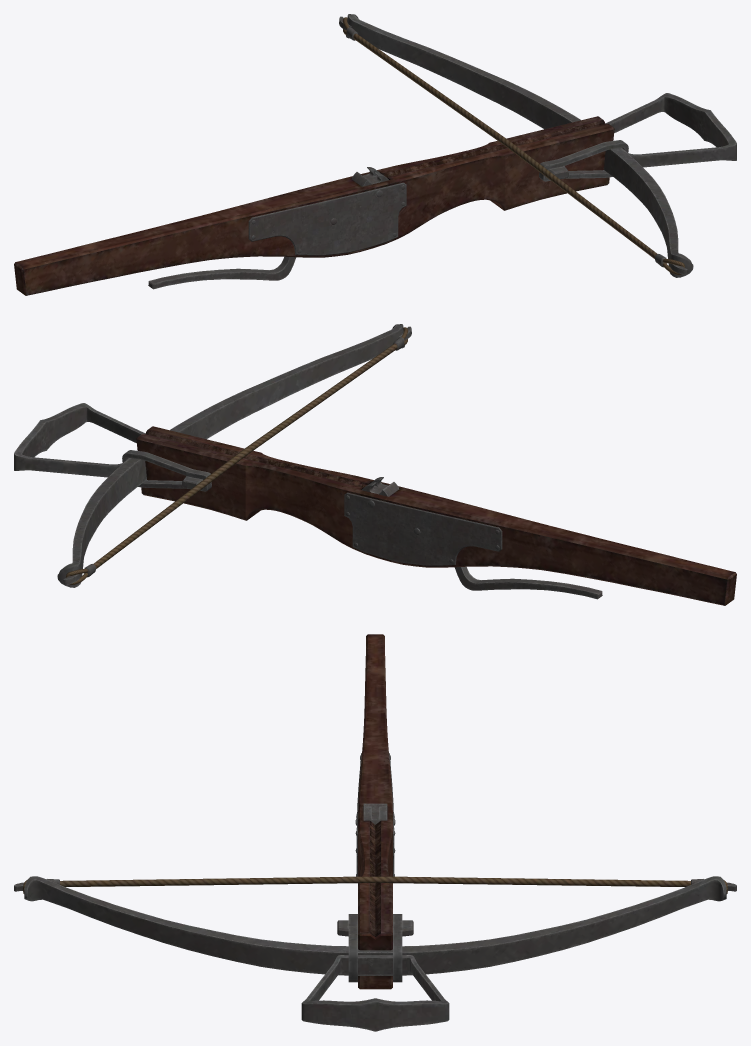
The model's file is plain_crossbow.glb.
3 views of the same model, one above another, from view 1: azimuth 30°, elevation 25°; view 2: azimuth 150°, elevation 25°; view 3: azimuth 270°, elevation 25° (orthographic). The views are drawn at different scales.
Parts seen in each view (by area): view 1: plain_crossbow; view 2: plain_crossbow; view 3: plain_crossbow.
Part boxes in pixels (box(x1,y1,x2,y2)): plain_crossbow: box(14, 14, 736, 295); plain_crossbow: box(14, 324, 736, 605); plain_crossbow: box(14, 634, 736, 1031).
Size of the model in its own units: 0.72 by 0.0851 by 0.6229.
2 materials, 2 textured.
